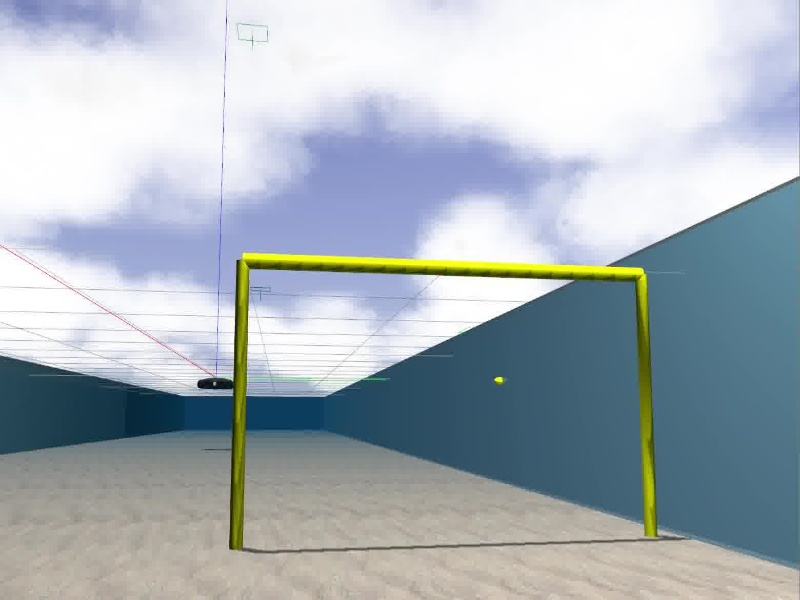gate: (228, 252, 664, 549)
